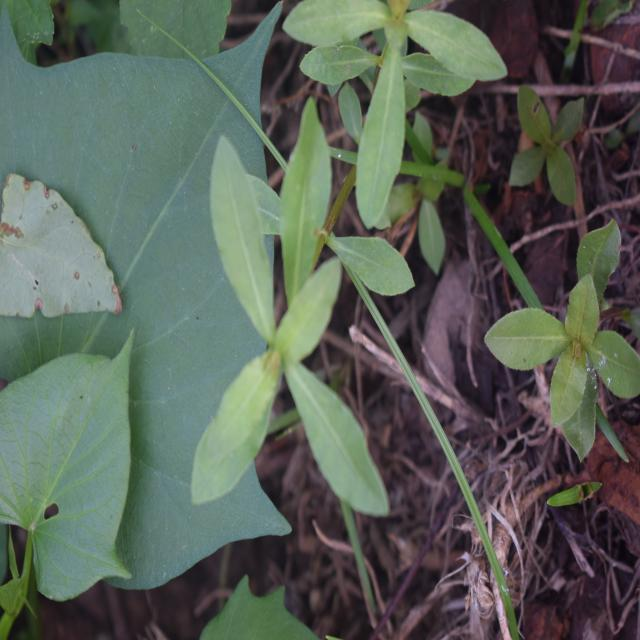Alligatorweed: (205, 125, 418, 519)
